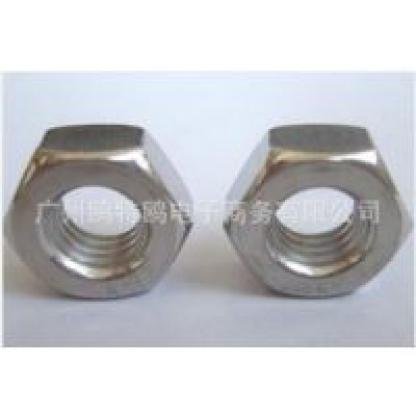FOD: (0, 121, 198, 300), (222, 121, 414, 302)
